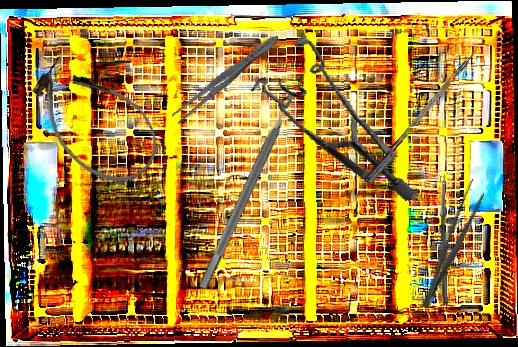Cannula: (14, 41, 175, 202)
Chopper: (382, 42, 482, 155)
Dressing Forceps: (169, 30, 283, 127), (415, 176, 490, 313)
Fixation Ring: (186, 77, 310, 295)
Speculum: (242, 19, 420, 226)
Surgical Spoon: (440, 175, 449, 305)
